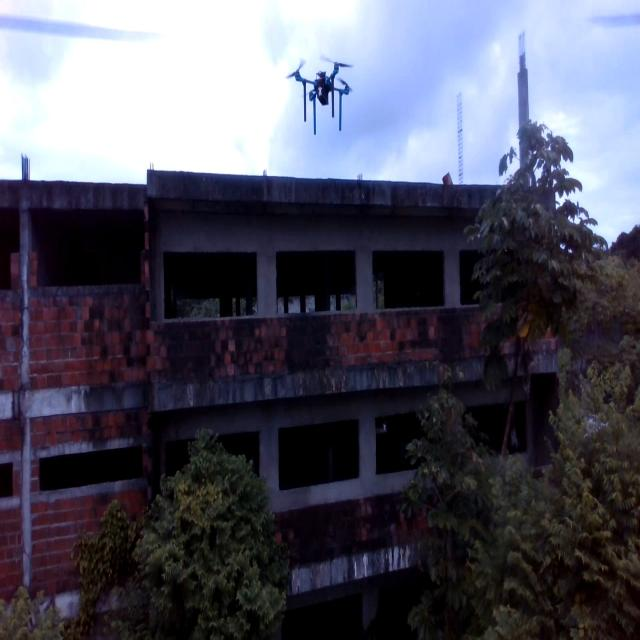-uav-: (278, 43, 358, 142)
